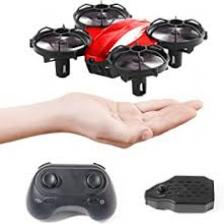drone: (24, 0, 215, 99)
